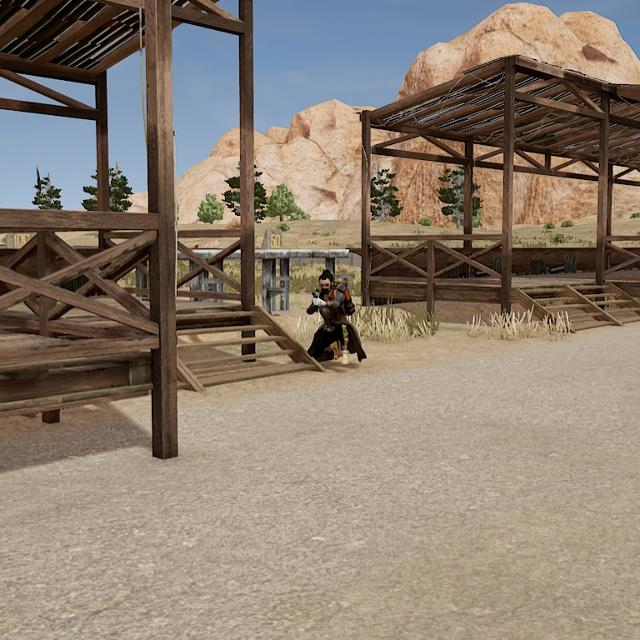head: (316, 269, 336, 296)
people: (303, 267, 357, 367)
